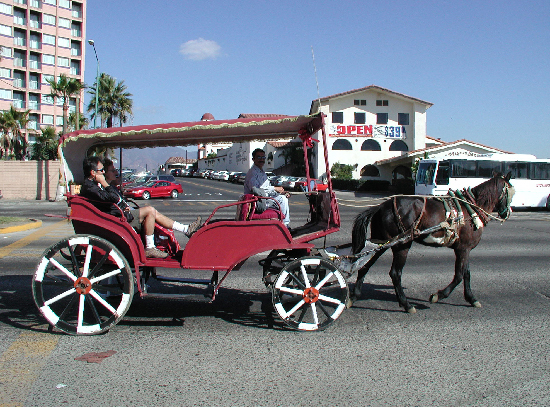horse: (347, 171, 516, 313)
